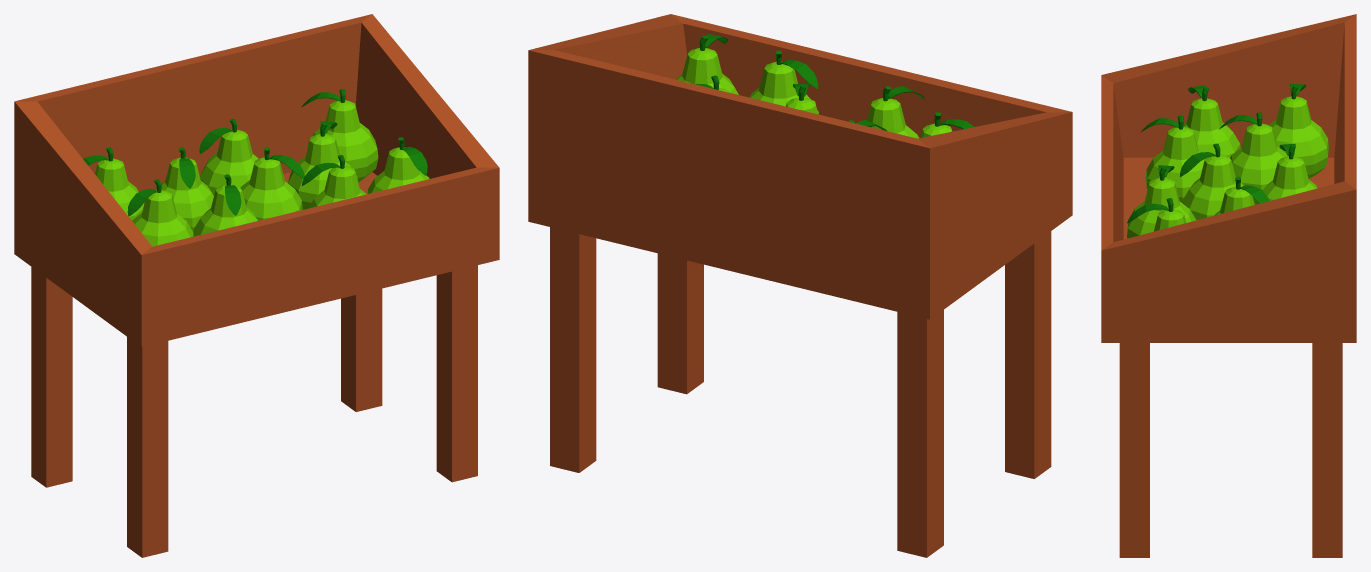
File: stall3.fbx
The picture shows the model from 3 angles, left to right: view 1: azimuth 30°, elevation 25°; view 2: azimuth 150°, elevation 25°; view 3: azimuth 270°, elevation 25°; orthographic projection. The views are drawn at different scales.
Visible parts, largest first — view 1: Cube, Sphere.018, Cube.001, Cube.002, Cube.003, Cube.004; view 2: Cube, Cube.003, Cube.004, Cube.001, Cube.002, Sphere.018; view 3: Cube, Sphere.018, Cube.002, Cube.004, Sphere.001, Sphere.015, Sphere.011.
Boxes of the visible parts, x1,y1,x2,y2 form: Cube: (14, 14, 499, 347); Sphere.018: (95, 100, 429, 246); Cube.001: (127, 337, 168, 557); Cube.002: (436, 265, 477, 482); Cube.003: (31, 267, 72, 487); Cube.004: (341, 288, 382, 411); Cube: (528, 14, 1072, 319); Cube.003: (897, 310, 943, 557); Cube.004: (550, 227, 596, 472); Cube.001: (1005, 231, 1051, 478); Cube.002: (657, 253, 703, 394); Sphere.018: (676, 48, 952, 138); Cube: (1101, 14, 1356, 342); Sphere.018: (1127, 96, 1328, 238); Cube.002: (1119, 343, 1149, 557); Cube.004: (1312, 343, 1342, 557); Sphere.001: (1180, 143, 1220, 176); Sphere.015: (1127, 198, 1173, 223); Sphere.011: (1235, 176, 1269, 203).
Size of the model in its own units: 325 by 323 by 200.
